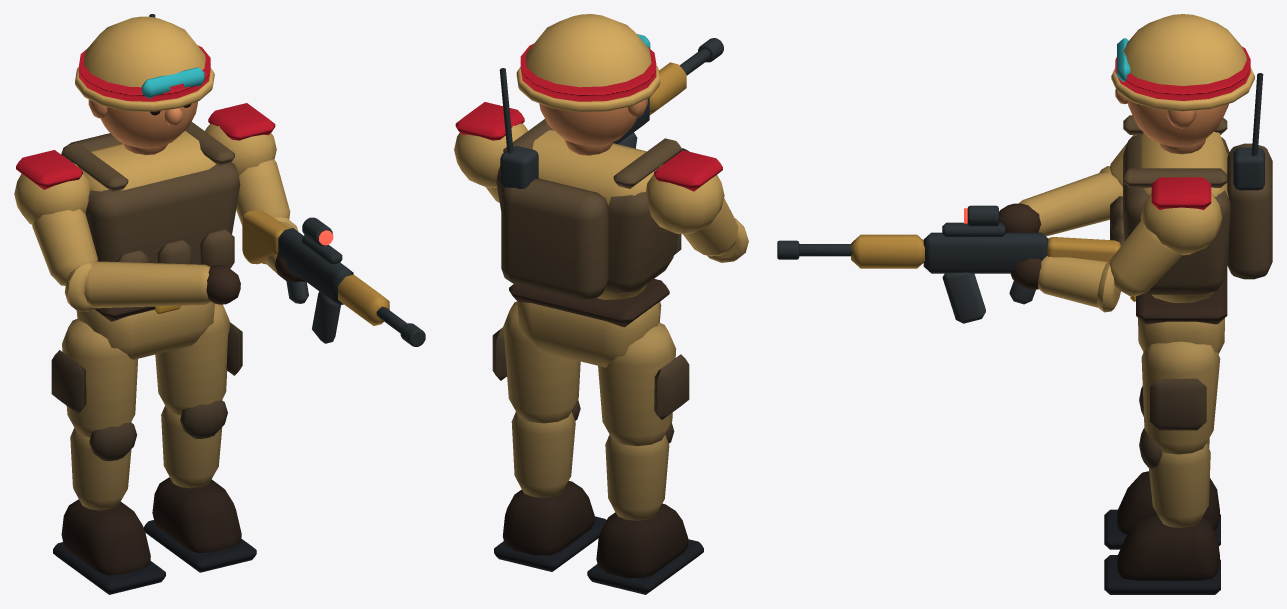
The model's file is rifleman.glb.
3 renders of one model, left to right at view 1: azimuth 30°, elevation 25°; view 2: azimuth 150°, elevation 25°; view 3: azimuth 270°, elevation 25°, orthographic. The views are drawn at different scales.
Parts seen in each view (by area): view 1: Plate carrier.001, Helmet, Thigh.002, Forearm.002, Boot.003, Boot.002, Thigh.003, Pelvis.001, Chest.001, Upper arm.002, Calf.003, Calf.002 (+25 smaller); view 2: Pack.001, Helmet, Thigh.002, Thigh.003, Pelvis.001, Plate carrier.001, Boot.002, Boot.003, Chest.001, Calf.003, Calf.002, Shoulder.002 (+20 smaller); view 3: Helmet, Boot.003, Thigh.003, Plate carrier.001, Pack.001, Receiver.001, Calf.003, Forearm.002, Upper arm.003, Shoulder.003, Cargo pocket.003, Chest.001 (+21 smaller).
Boxes of the visible parts, bbox=[...] form: Plate carrier.001: bbox=[85, 162, 240, 264]; Helmet: bbox=[83, 16, 205, 87]; Thigh.002: bbox=[62, 318, 137, 437]; Forearm.002: bbox=[84, 261, 211, 308]; Boot.003: bbox=[152, 477, 241, 552]; Boot.002: bbox=[61, 499, 150, 575]; Thigh.003: bbox=[155, 303, 229, 415]; Pelvis.001: bbox=[76, 301, 214, 359]; Chest.001: bbox=[79, 131, 216, 191]; Upper arm.002: bbox=[32, 209, 97, 285]; Calf.003: bbox=[161, 406, 222, 488]; Calf.002: bbox=[70, 428, 131, 510]; Pack.001: bbox=[501, 178, 608, 299]; Helmet: bbox=[525, 14, 651, 87]; Thigh.002: bbox=[598, 322, 676, 446]; Thigh.003: bbox=[503, 301, 580, 423]; Pelvis.001: bbox=[517, 301, 661, 367]; Plate carrier.001: bbox=[496, 166, 678, 292]; Boot.002: bbox=[596, 503, 688, 578]; Boot.003: bbox=[503, 481, 594, 555]; Chest.001: bbox=[532, 130, 657, 299]; Calf.003: bbox=[511, 412, 575, 497]; Calf.002: bbox=[605, 434, 669, 520]; Shoulder.002: bbox=[646, 164, 724, 234]; Helmet: bbox=[1124, 14, 1246, 85]; Boot.003: bbox=[1117, 514, 1219, 580]; Thigh.003: bbox=[1141, 341, 1220, 454]; Plate carrier.001: bbox=[1123, 135, 1230, 294]; Pack.001: bbox=[1227, 143, 1272, 279]; Receiver.001: bbox=[923, 232, 1048, 273]; Calf.003: bbox=[1149, 443, 1210, 527]; Forearm.002: bbox=[1018, 172, 1122, 236]; Upper arm.003: bbox=[1109, 220, 1182, 296]; Shoulder.003: bbox=[1140, 193, 1222, 255]; Cargo pocket.003: bbox=[1150, 378, 1206, 430]; Chest.001: bbox=[1139, 132, 1228, 302].
Bounding box in the file's own units: 0.9412 × 1.89 × 1.58.
13 materials, 12 textured.
